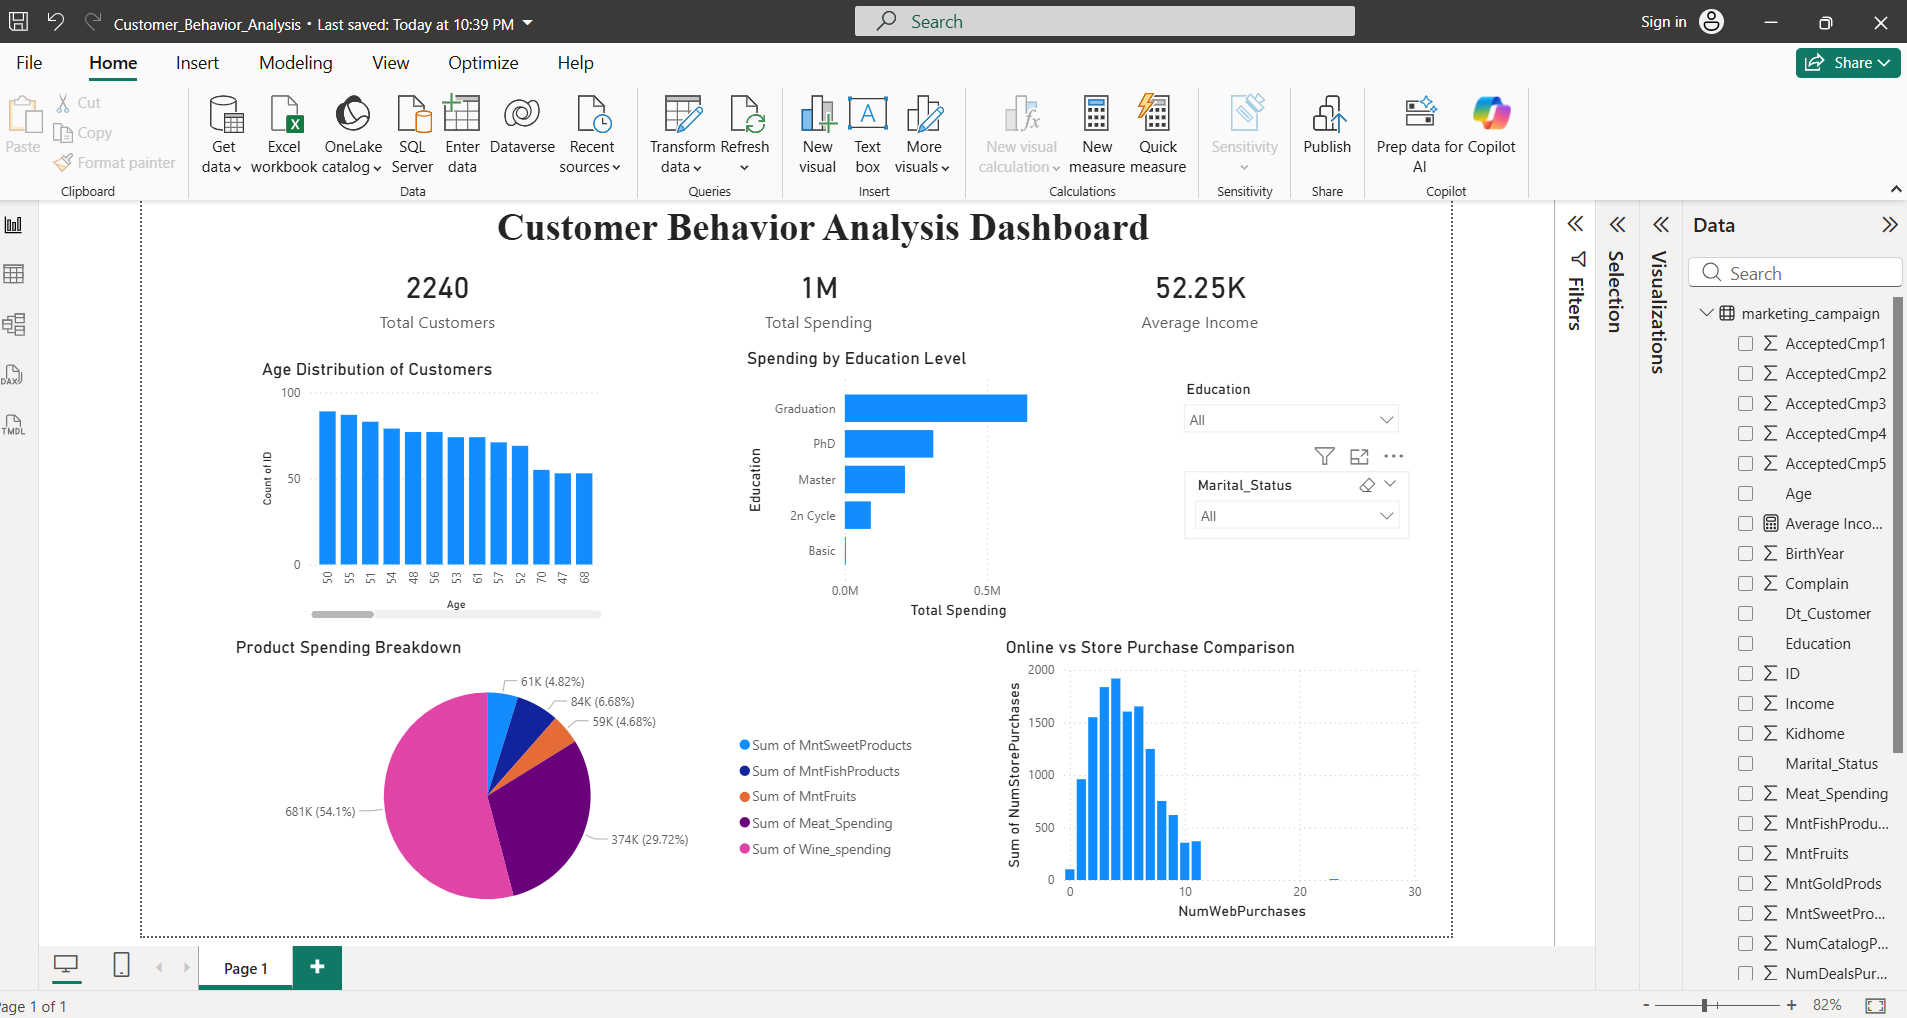

Layout of this report page (visuals, bound fields, positions):
{"tool":"powerbi","page":{"name":"Page 1","canvas":[1280,720],"ordinal":0},"visuals":[{"type":"card","fields":{"Values":["marketing_campaign.Total Customers"]},"box":[149.2,45.2,280,99],"z":0},{"type":"card","fields":{"Values":["marketing_campaign.Total Spending"]},"box":[522.1,45.2,280,99],"z":1000},{"type":"card","fields":{"Values":["marketing_campaign.Average Income"]},"box":[895.1,45.2,280,99],"z":2000},{"type":"clusteredColumnChart","title":"Age Distribution of Customers","fields":{"Category":["marketing_campaign.Age"],"Y":["CountNonNull(marketing_campaign.ID)"]},"box":[112.5,155.3,342.4,259.2],"z":3000},{"type":"clusteredBarChart","title":"Spending by Education Level","fields":{"Category":["marketing_campaign.Education"],"Y":["marketing_campaign.Total Spending"]},"box":[587,144.3,342.4,270.2],"z":4000},{"type":"pieChart","title":"Product Spending Breakdown","fields":{"Y":["Sum(marketing_campaign.MntSweetProducts)","Sum(marketing_campaign.MntFishProducts)","Sum(marketing_campaign.MntFruits)","Sum(marketing_campaign.Meat_Spending)","Sum(marketing_campaign.Wine_spending)"]},"box":[86.8,426.8,681.1,293.5],"z":5000},{"type":"clusteredColumnChart","title":"Online vs Store Purchase Comparison","fields":{"Category":["marketing_campaign.NumWebPurchases"],"Y":["Sum(marketing_campaign.NumStorePurchases)"]},"box":[840.1,426.8,417,282.5],"z":6000},{"type":"textbox","box":[112.5,0,1107.9,61.1],"z":7000},{"type":"slicer","fields":{"Values":["marketing_campaign.Education"]},"box":[1008.8,171.2,231.1,89.3],"z":8000},{"type":"slicer","fields":{"Values":["marketing_campaign.Marital_Status"]},"box":[1019.8,265.4,220.1,66],"z":9000}]}

Visuals, with their boxes on the page's 1280x720 design canvas (x1, y1, x2, y2). These are canvas units, not pixel positions in the 1907x1018 screenshot, which may show the page scaled, cropped or inside an application window:
card - marketing_campaign.Total Customers: bbox=(149, 45, 429, 144)
card - marketing_campaign.Total Spending: bbox=(522, 45, 802, 144)
card - marketing_campaign.Average Income: bbox=(895, 45, 1175, 144)
"Age Distribution of Customers" clusteredColumnChart: bbox=(112, 155, 455, 414)
"Spending by Education Level" clusteredBarChart: bbox=(587, 144, 929, 414)
"Product Spending Breakdown" pieChart: bbox=(87, 427, 768, 720)
"Online vs Store Purchase Comparison" clusteredColumnChart: bbox=(840, 427, 1257, 709)
textbox: bbox=(112, 0, 1220, 61)
slicer - marketing_campaign.Education: bbox=(1009, 171, 1240, 260)
slicer - marketing_campaign.Marital_Status: bbox=(1020, 265, 1240, 331)
